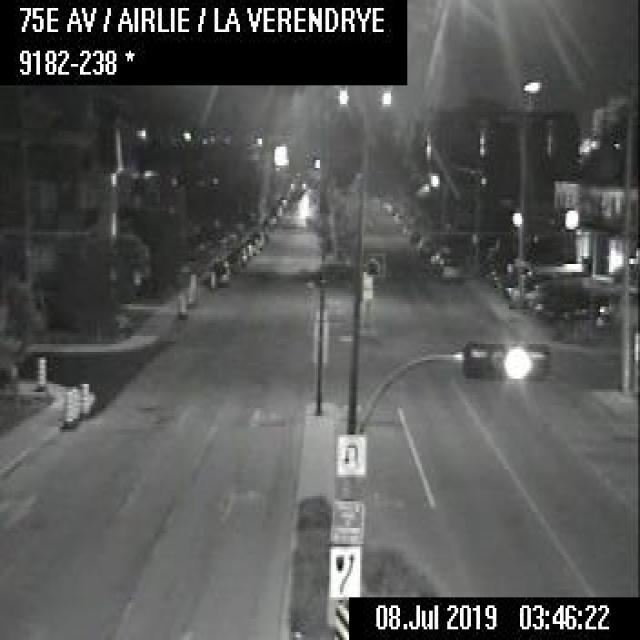construction: (61, 383, 72, 429), (186, 271, 198, 304), (34, 354, 46, 386), (206, 258, 217, 290), (175, 287, 186, 315), (78, 380, 87, 413), (70, 385, 78, 419)
vehicle: (438, 255, 462, 280), (210, 258, 228, 284), (225, 250, 241, 274)
